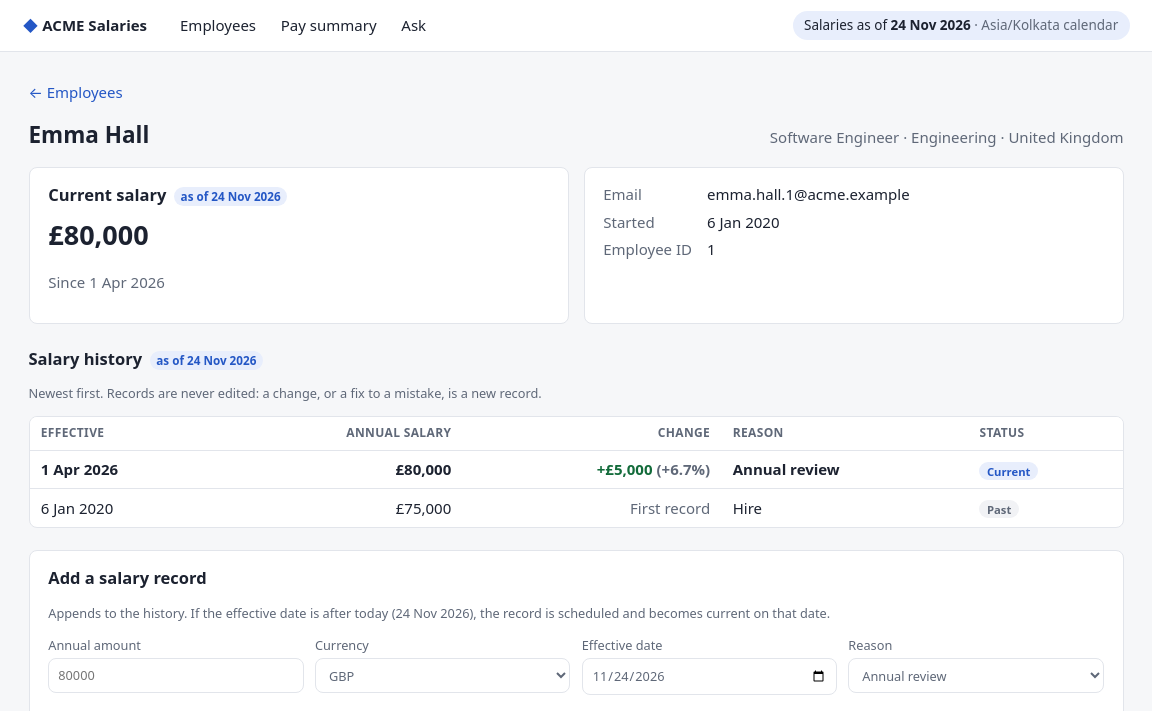
Scenario: add salary record form › shows the server's reason when it rejects the record
Check: the heading "Emma Hall" is shown, box [28,118,149,152]
Type "90000" into the field labelled "Annual amount".
click(176, 675); type("90000")  # box [48,658,304,692]
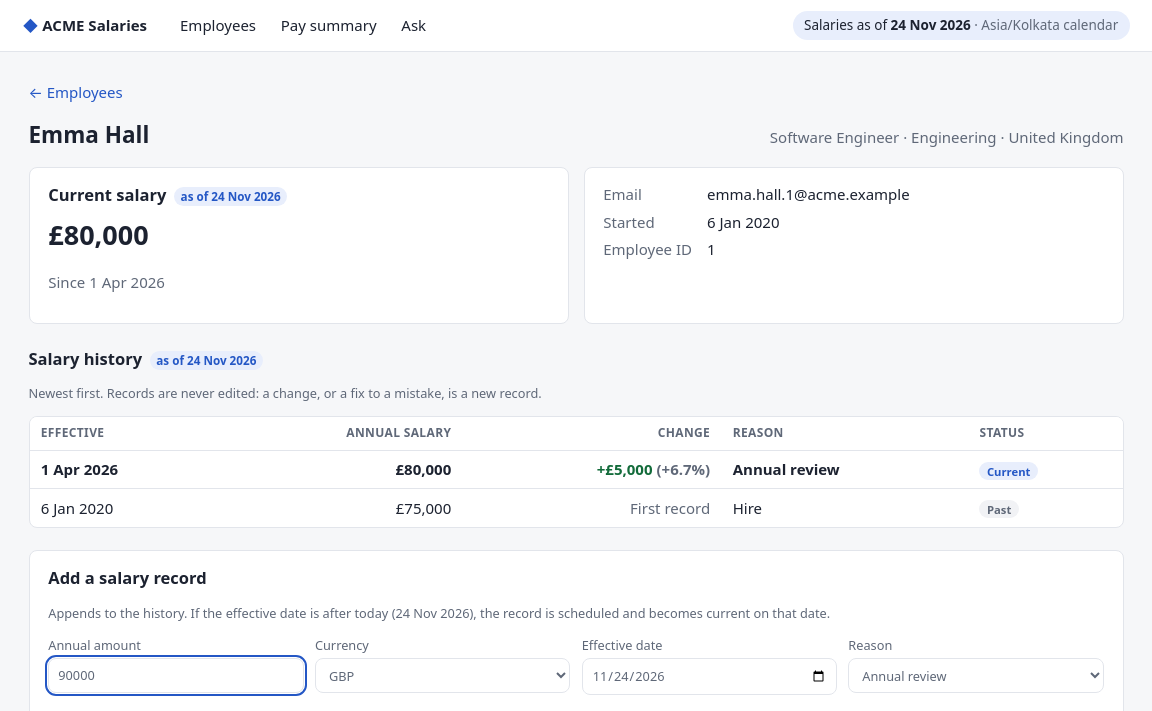
Type "2026-12-01" into the date field labelled "Effective date".
click(709, 676); type("2026-12-01")  # box [582,658,837,694]
(page scrolled)
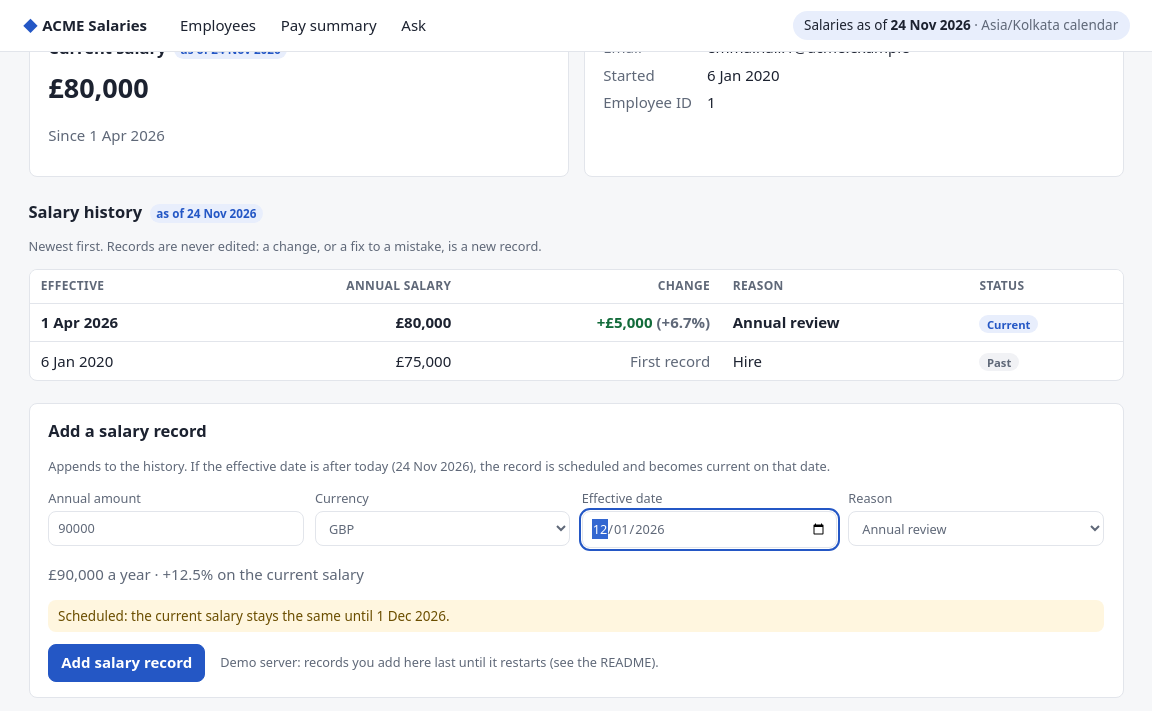
Click the button "Add salary record".
click(127, 662)  # box [48,644,205,682]
(page scrolled)
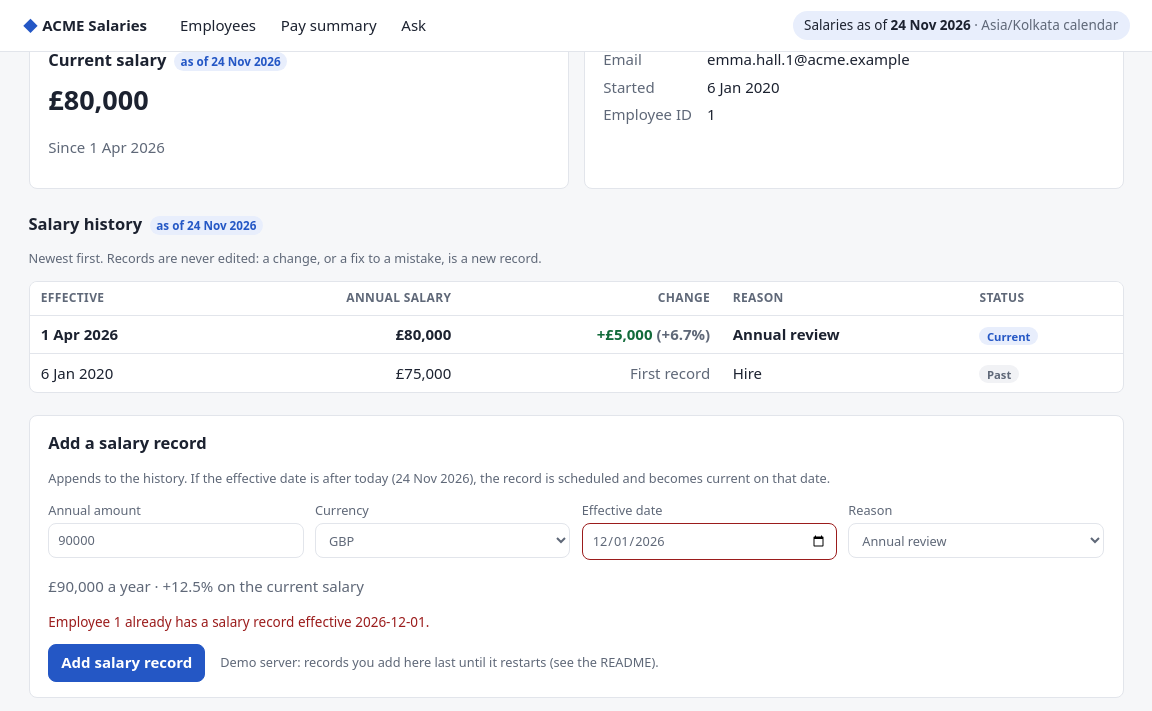
Check: the text "Employee 1 already has a salary record effective 2026-12-01." is shown, box [48,613,429,631]
